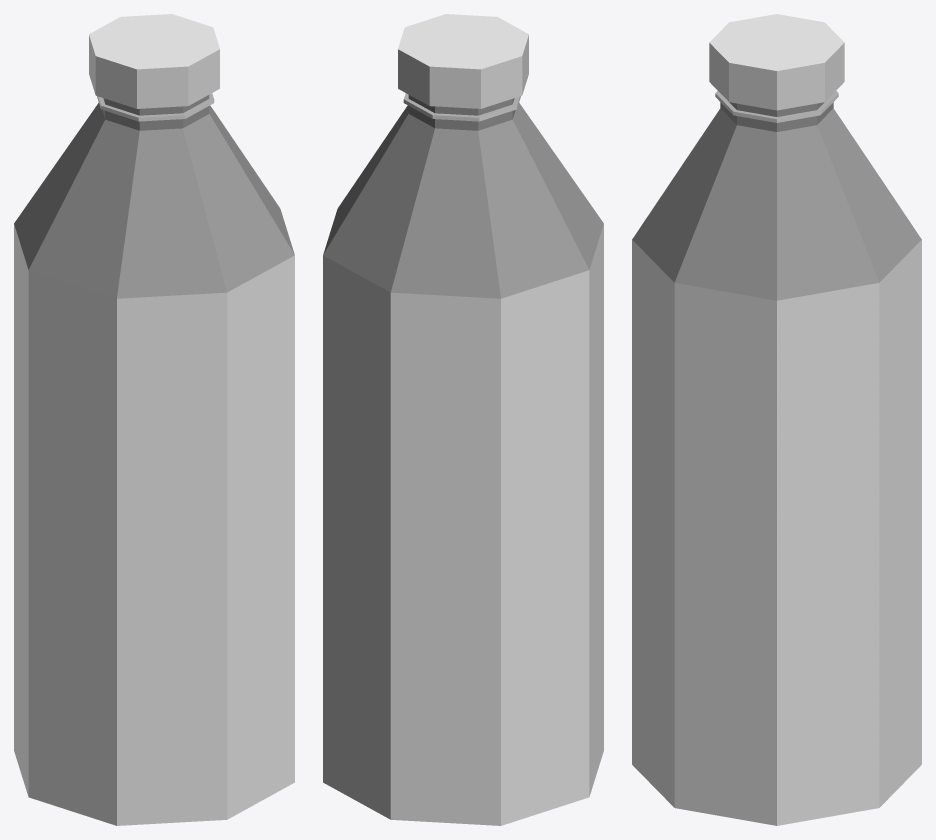
The model's file is Bottle.fbx.
The picture shows the model from 3 angles, left to right: view 1: azimuth 30°, elevation 25°; view 2: azimuth 150°, elevation 25°; view 3: azimuth 270°, elevation 25°; orthographic projection.
Parts seen in each view (by area): view 1: Bottle; view 2: Bottle; view 3: Bottle.
Part boxes in pixels (x1,y1,x2,y2): Bottle: [14, 14, 294, 825]; Bottle: [323, 14, 603, 825]; Bottle: [632, 14, 921, 825].
Bounding box in the file's own units: 8 × 22 × 8.
